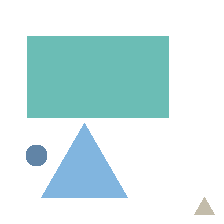circle: (26, 145, 46, 165)
rectangle: (27, 36, 168, 117)
triangle: (41, 123, 127, 197), (194, 197, 214, 214)
